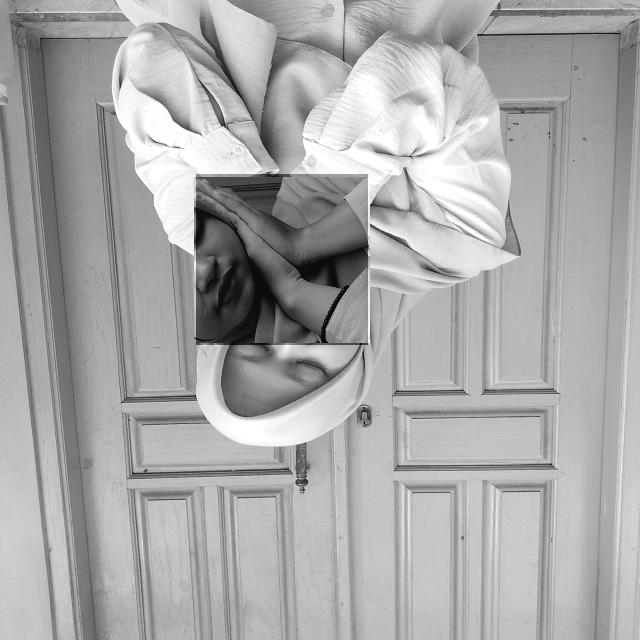tidur: (196, 174, 368, 345)
